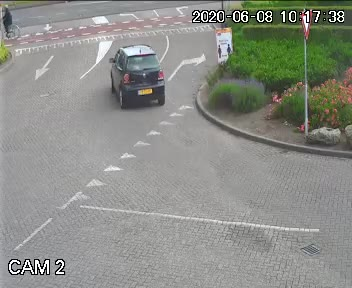car: (104, 39, 180, 121)
